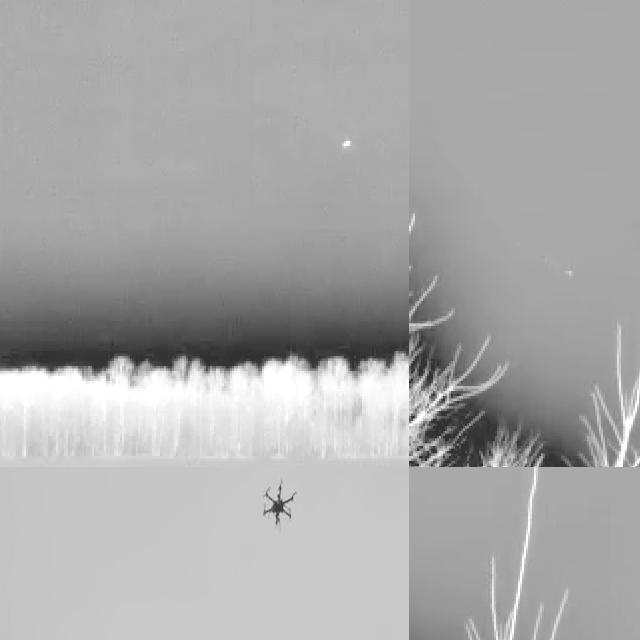0: (557, 261, 589, 291)
1: (335, 132, 365, 162)
drone: (260, 474, 299, 537)
